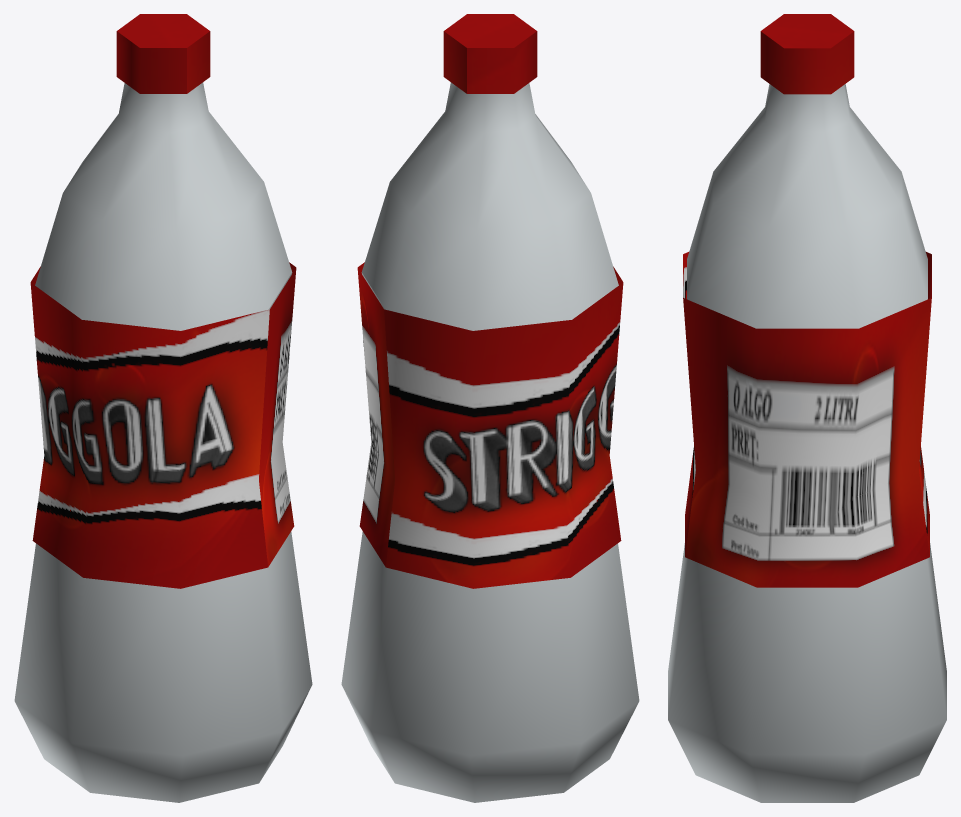
File: cola.glb
3 renders of one model, left to right at view 1: azimuth 30°, elevation 25°; view 2: azimuth 150°, elevation 25°; view 3: azimuth 270°, elevation 25°, orthographic.
Visible parts, largest first — view 1: Label, Glass, GlassNeck, Cap; view 2: Label, Glass, GlassNeck, Cap; view 3: Label, Glass, GlassNeck, Cap.
Part boxes in pixels (bbox=[...]): Label: bbox=[30, 262, 296, 588]; Glass: bbox=[14, 272, 312, 802]; GlassNeck: bbox=[35, 82, 291, 330]; Cap: bbox=[116, 14, 210, 93]; Label: bbox=[357, 262, 623, 588]; Glass: bbox=[341, 272, 639, 802]; GlassNeck: bbox=[362, 82, 618, 330]; Cap: bbox=[443, 14, 537, 93]; Label: bbox=[683, 252, 931, 587]; Glass: bbox=[668, 543, 946, 802]; GlassNeck: bbox=[687, 84, 927, 328]; Cap: bbox=[760, 14, 854, 94].
Bounding box in the file's own units: 0.2737 × 0.7845 × 0.2737.
Materials: 2 (1 with a texture image).
